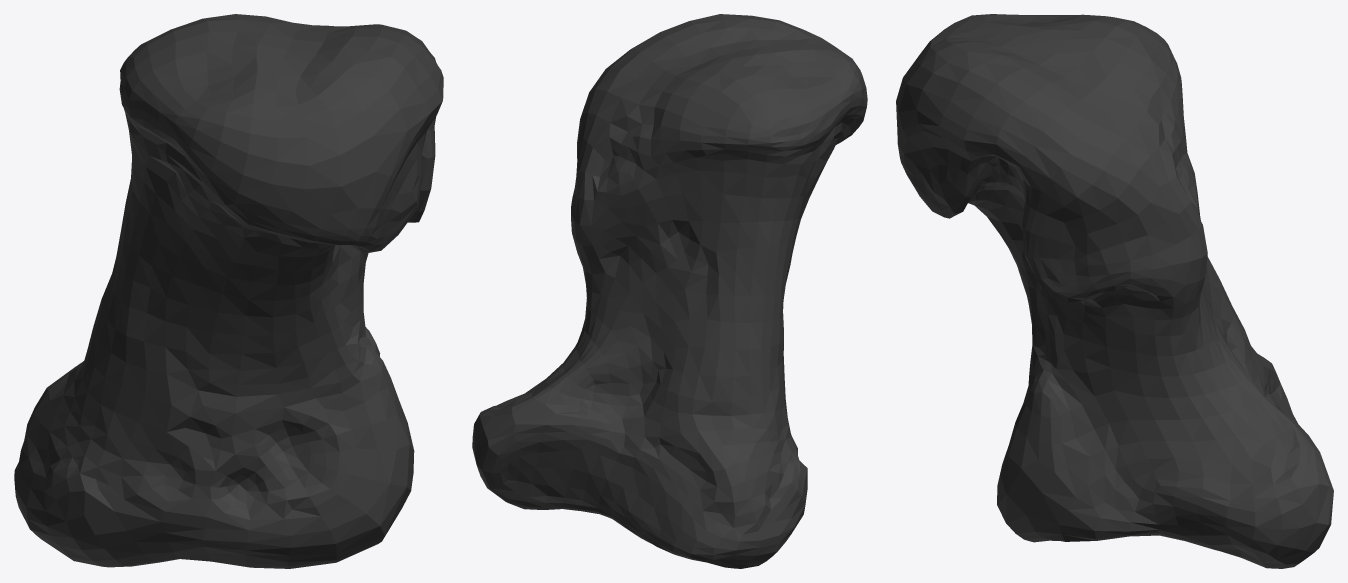
Rendered from Carpal_bone_accessory.glb.
3 renders of one model, left to right at view 1: azimuth 30°, elevation 25°; view 2: azimuth 150°, elevation 25°; view 3: azimuth 270°, elevation 25°, orthographic. The views are drawn at different scales.
Parts seen in each view (by area): view 1: Carpal_bone_accessory; view 2: Carpal_bone_accessory; view 3: Carpal_bone_accessory.
Boxes of the visible parts, x1,y1,x2,y2 form: Carpal_bone_accessory: [14, 14, 443, 568]; Carpal_bone_accessory: [472, 14, 867, 568]; Carpal_bone_accessory: [896, 14, 1333, 568].
Size of the model in its own units: 0.1227 by 0.1801 by 0.1427.
1 material, 1 textured.
